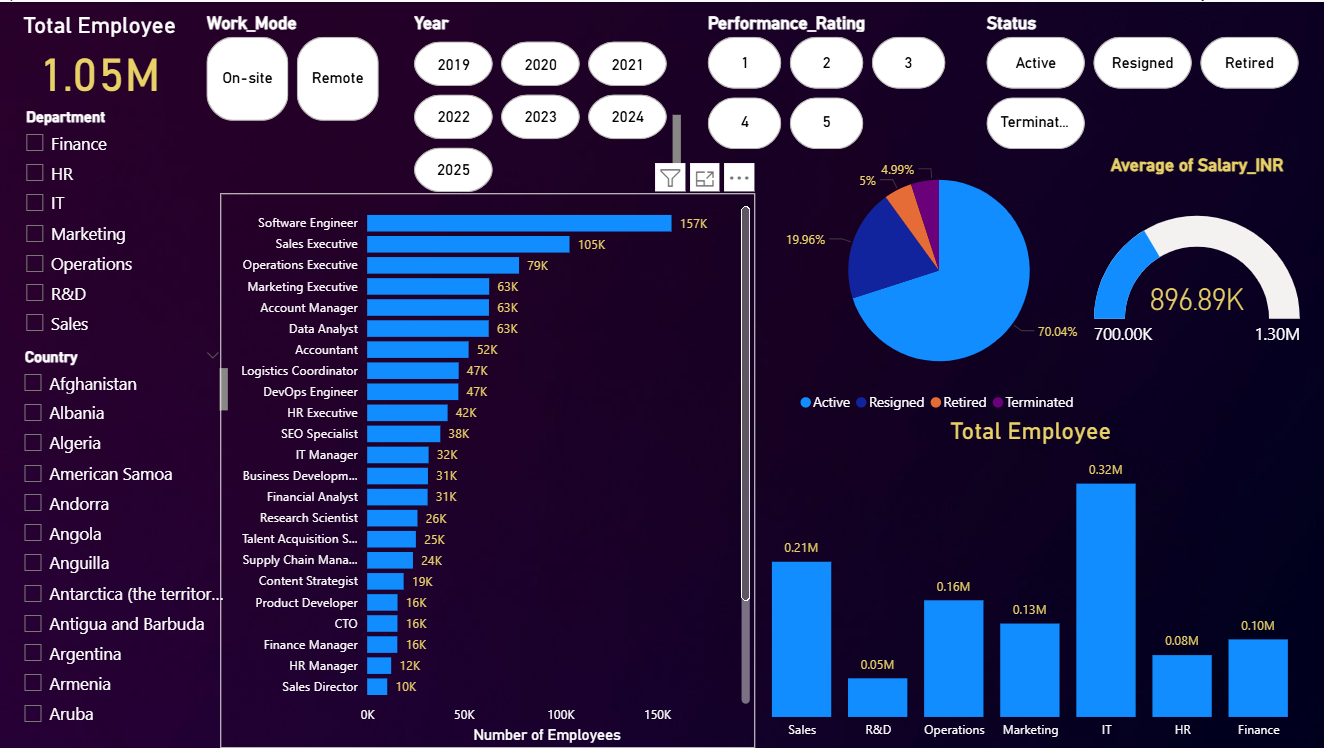

Layout of this report page (visuals, bound fields, positions):
{"tool":"powerbi","page":{"name":"Page 1","canvas":[1280,720],"ordinal":0},"visuals":[{"type":"card","title":"Total Employee","fields":{"Values":["Count(HR_Data_MNC_Data Science Lovers.Employee_ID)"]},"box":[12.1,9.7,170.1,88.1],"z":0},{"type":"slicer","fields":{"Values":["HR_Data_MNC_Data Science Lovers.Department"]},"box":[13.3,97.7,170.1,241.3],"z":1000},{"type":"pieChart","fields":{"Y":["CountNonNull(HR_Data_MNC_Data Science Lovers.Status)","select"],"Category":["HR_Data_MNC_Data Science Lovers.Status"]},"box":[626.1,147.2,562.2,253.4],"z":2000},{"type":"slicer","fields":{"Values":["HR_Data_MNC_Data Science Lovers.Country"]},"box":[12.1,329.4,213.5,376.4],"z":3000},{"type":"advancedSlicerVisual","fields":{"Values":["HR_Data_MNC_Data Science Lovers.Performance_Rating"]},"box":[679.2,9.7,241.3,137.5],"z":4000},{"type":"advancedSlicerVisual","fields":{"Values":["HR_Data_MNC_Data Science Lovers.Work_Mode"]},"box":[195.4,9.7,263,111],"z":5000},{"type":"advancedSlicerVisual","fields":{"Values":["HR_Data_MNC_Data Science Lovers.Status"]},"box":[948.3,9.7,312.5,137.5],"z":6000},{"type":"clusteredColumnChart","title":"Total Employee","fields":{"Category":["HR_Data_MNC_Data Science Lovers.Department"],"Y":["CountNonNull(HR_Data_MNC_Data Science Lovers.Employee_ID)"]},"box":[711.8,400.5,568.2,319.7],"z":7000},{"type":"gauge","fields":{"Y":["Avg(HR_Data_MNC_Data Science Lovers.Salary_INR)"]},"box":[1052,147.2,208.7,230.4],"z":8000},{"type":"advancedSlicerVisual","fields":{"Values":["HR_Data_MNC_Data Science Lovers.Hire_Date.Variation.Date Hierarchy.Year"]},"box":[395.7,9.7,267.8,174.9],"z":9000},{"type":"clusteredBarChart","fields":{"Category":["HR_Data_MNC_Data Science Lovers.Job_Title"],"Y":["CountNonNull(HR_Data_MNC_Data Science Lovers.Employee_ID)"]},"box":[213.5,184.6,516.4,535.7],"z":10000}]}

Visuals, with their boxes in screenshot pixels (x1, y1, x2, y2), scaled from the page's 1280x720 canvas onto the 1324x748 screenshot:
"Total Employee" card: region(13, 10, 188, 102)
slicer - HR_Data_MNC_Data Science Lovers.Department: region(14, 101, 190, 352)
pieChart - CountNonNull(HR_Data_MNC_Data Science Lovers.Status) x select: region(648, 153, 1229, 416)
slicer - HR_Data_MNC_Data Science Lovers.Country: region(13, 342, 233, 733)
advancedSlicerVisual - HR_Data_MNC_Data Science Lovers.Performance_Rating: region(703, 10, 952, 153)
advancedSlicerVisual - HR_Data_MNC_Data Science Lovers.Work_Mode: region(202, 10, 474, 125)
advancedSlicerVisual - HR_Data_MNC_Data Science Lovers.Status: region(981, 10, 1304, 153)
"Total Employee" clusteredColumnChart: region(736, 416, 1323, 747)
gauge - Avg(HR_Data_MNC_Data Science Lovers.Salary_INR): region(1088, 153, 1304, 392)
advancedSlicerVisual - HR_Data_MNC_Data Science Lovers.Hire_Date.Variation.Date Hierarchy.Year: region(409, 10, 686, 192)
clusteredBarChart - HR_Data_MNC_Data Science Lovers.Job_Title x CountNonNull(HR_Data_MNC_Data Science Lovers.Employee_ID): region(221, 192, 755, 747)
